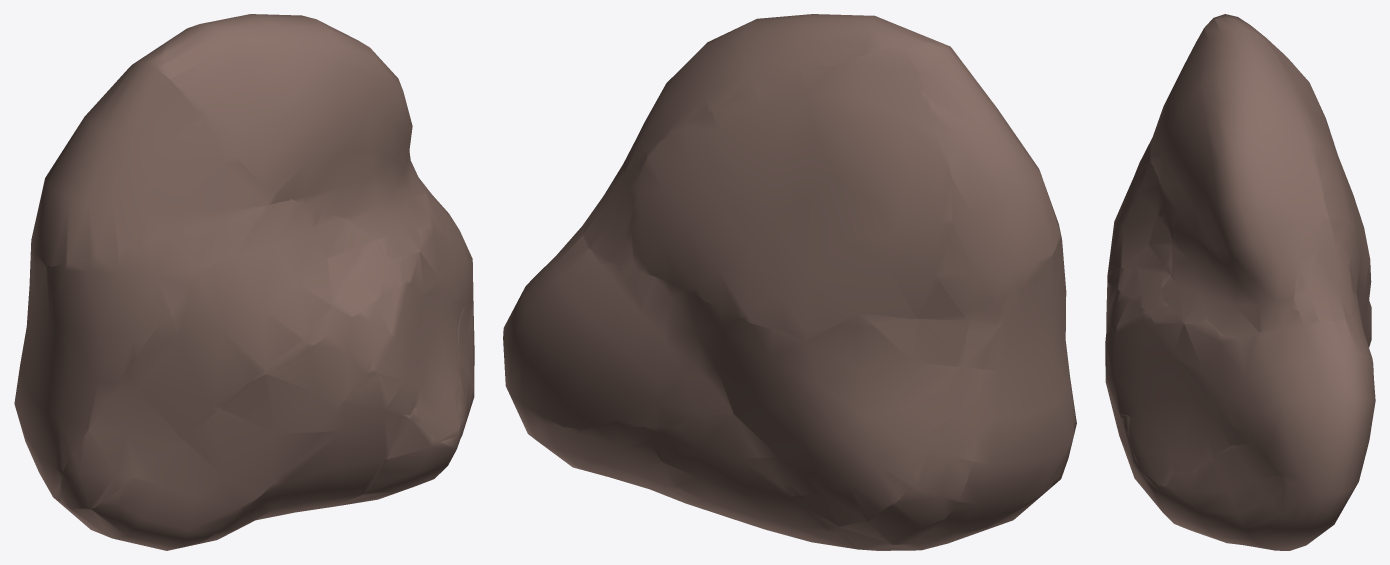
The model's file is Crushed_1.fbx.
3 renders of one model, left to right at view 1: azimuth 30°, elevation 25°; view 2: azimuth 150°, elevation 25°; view 3: azimuth 270°, elevation 25°, orthographic. The views are drawn at different scales.
Parts seen in each view (by area): view 1: shard16, shard18, shard17, shard20, shard21, shard26, shard25, shard19, shard22, shard24, shard29; view 2: shard28, shard30, shard22, shard17, shard21, shard16, shard26, shard23, shard19, shard27, shard20; view 3: shard16, shard22, shard25, shard19, shard28, shard27, shard18, shard24, shard29, shard20, shard30, shard17.
Part boxes in pixels (x1,y1,x2,y2): shard16: [163, 14, 430, 259]; shard18: [60, 200, 338, 513]; shard17: [30, 42, 290, 267]; shard20: [69, 283, 399, 550]; shard21: [14, 202, 279, 504]; shard26: [196, 365, 403, 544]; shard25: [371, 281, 463, 441]; shard19: [345, 304, 474, 504]; shard22: [400, 178, 473, 308]; shard24: [247, 239, 402, 383]; shard29: [314, 207, 375, 293]; shard28: [631, 46, 952, 331]; shard30: [620, 265, 977, 523]; shard22: [503, 222, 735, 428]; shard17: [902, 41, 1059, 317]; shard21: [908, 214, 1074, 543]; shard16: [611, 14, 940, 182]; shard26: [639, 418, 890, 550]; shard23: [834, 294, 1007, 544]; shard19: [516, 408, 701, 508]; shard27: [582, 146, 653, 268]; shard20: [786, 489, 1044, 550]; shard16: [1153, 18, 1323, 339]; shard22: [1149, 305, 1375, 509]; shard25: [1105, 311, 1247, 489]; shard19: [1116, 406, 1351, 550]; shard28: [1246, 25, 1370, 301]; shard27: [1157, 177, 1356, 321]; shard18: [1108, 163, 1163, 268]; shard24: [1107, 267, 1170, 311]; shard29: [1129, 202, 1172, 274]; shard20: [1106, 279, 1147, 334]; shard30: [1356, 265, 1371, 347]; shard17: [1148, 14, 1258, 176].
Bounding box in the file's own units: 14.93 × 14.7 × 8.35.
